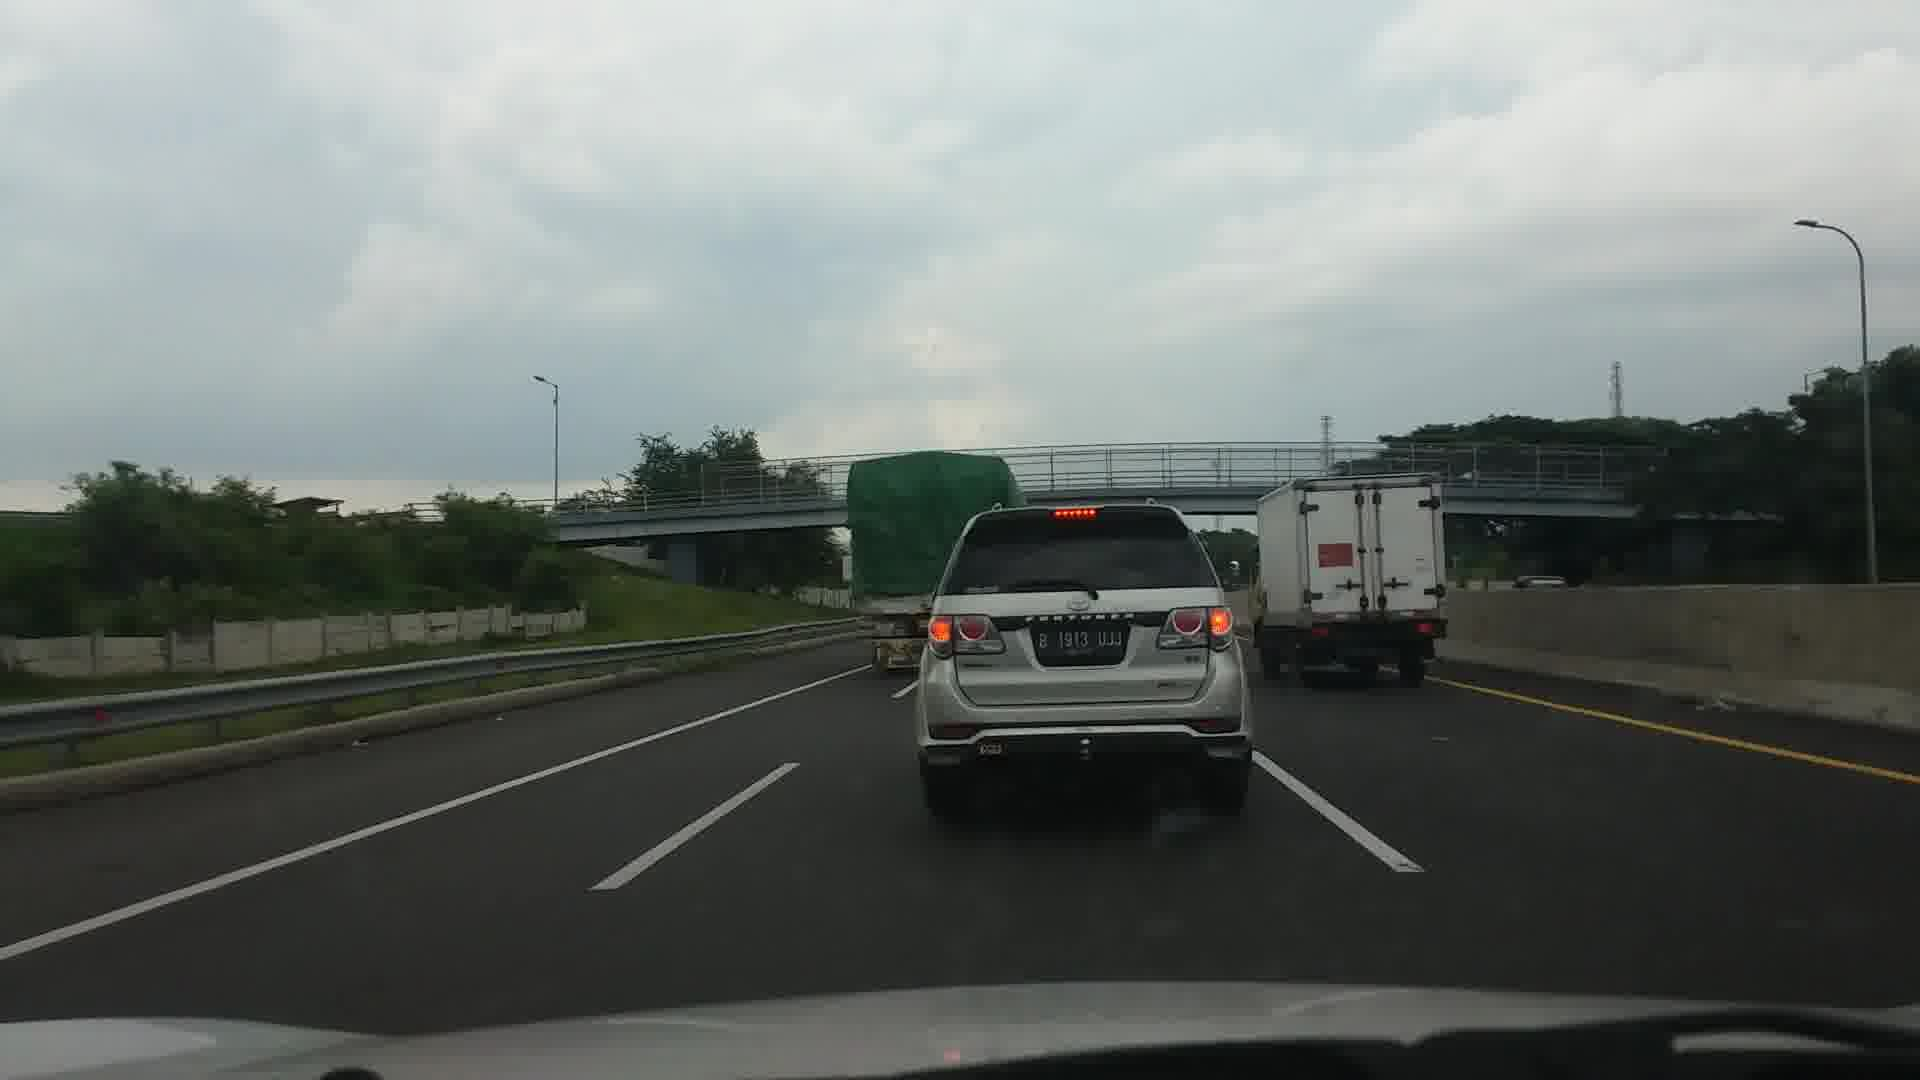plate_positive: (1036, 629, 1124, 657)
